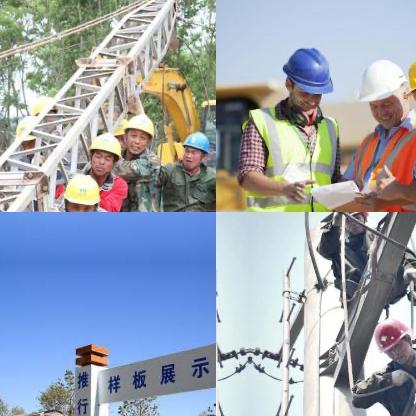Helmet: (356, 55, 410, 127), (280, 42, 334, 110), (369, 311, 415, 364), (116, 104, 156, 156), (84, 128, 122, 178), (9, 113, 49, 156), (60, 169, 100, 211), (27, 92, 63, 134), (178, 130, 212, 168), (333, 212, 368, 234)
